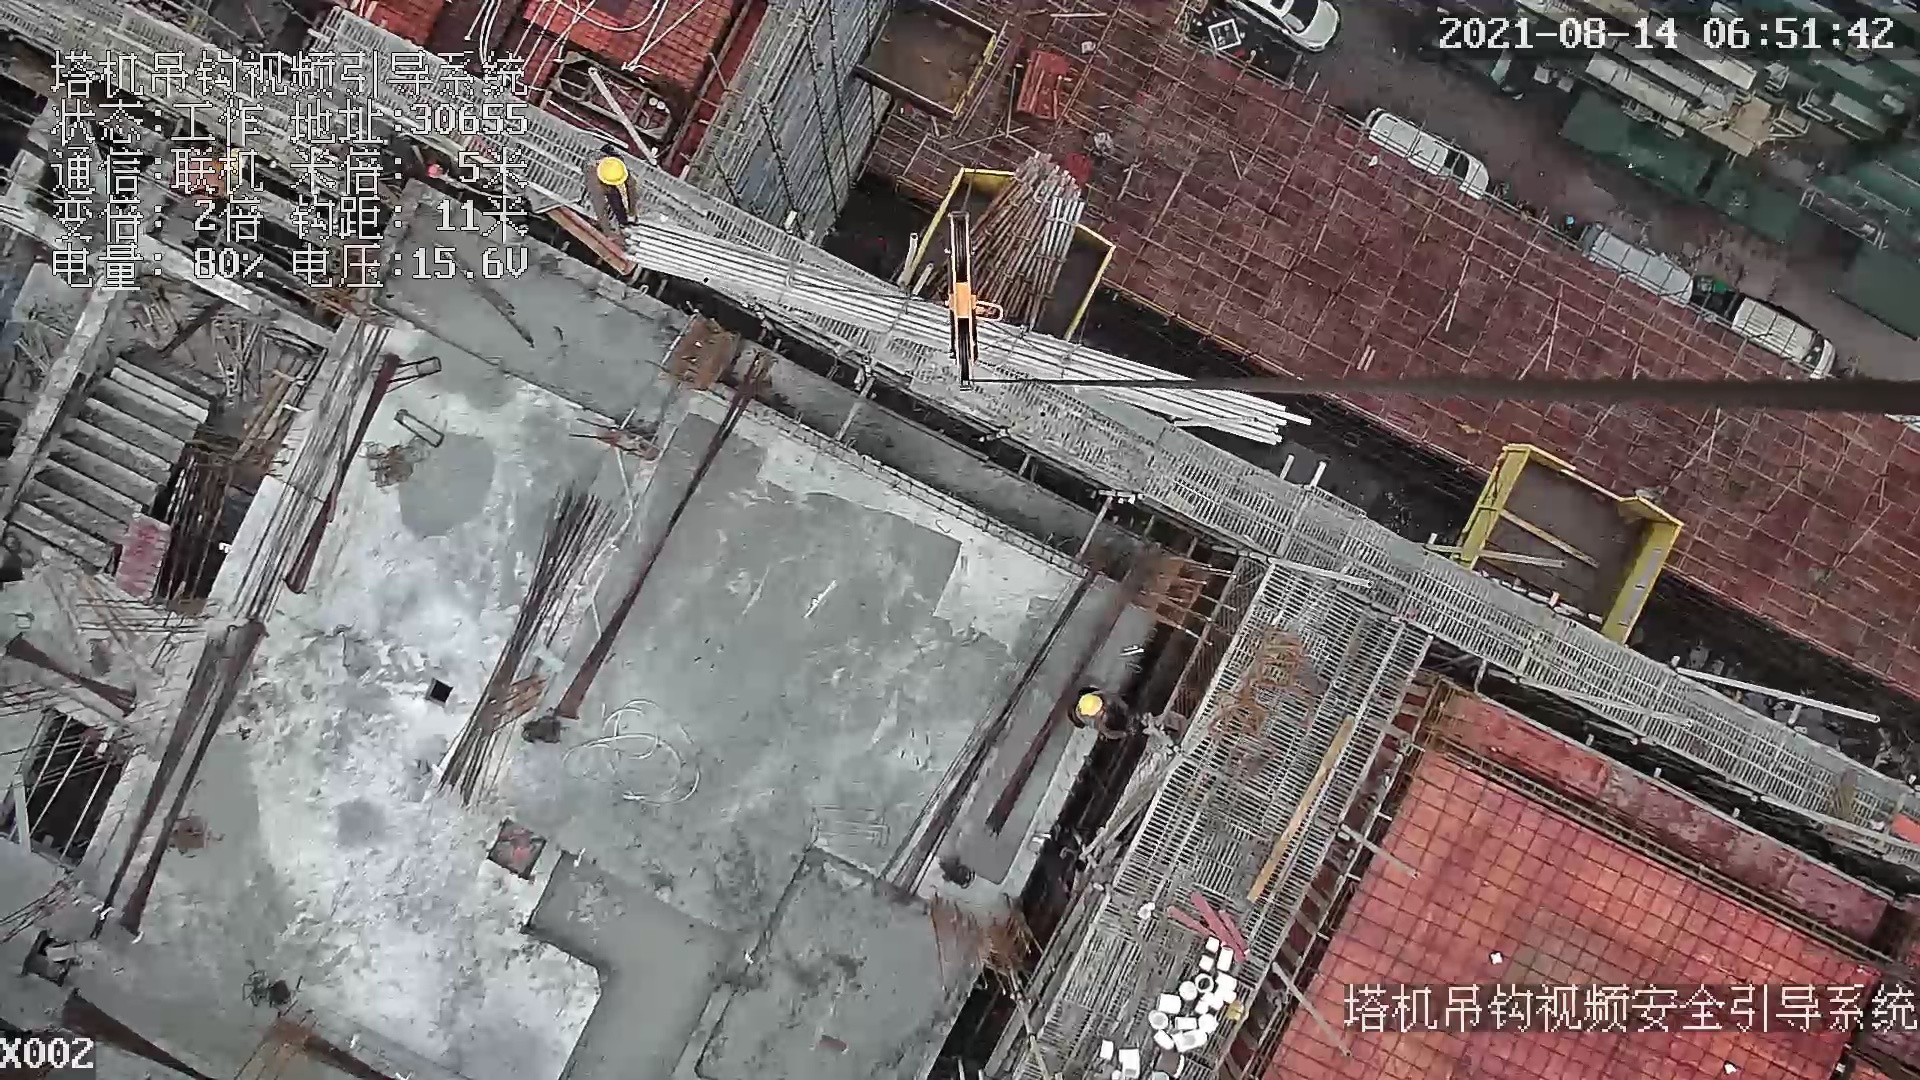helmet: (595, 156, 631, 185), (1079, 693, 1099, 716)
hook: (941, 212, 1026, 399)
person: (572, 144, 645, 254), (1065, 685, 1145, 740)
rebar: (623, 221, 1310, 446), (429, 489, 617, 804)
scaffold: (970, 153, 1085, 338)
